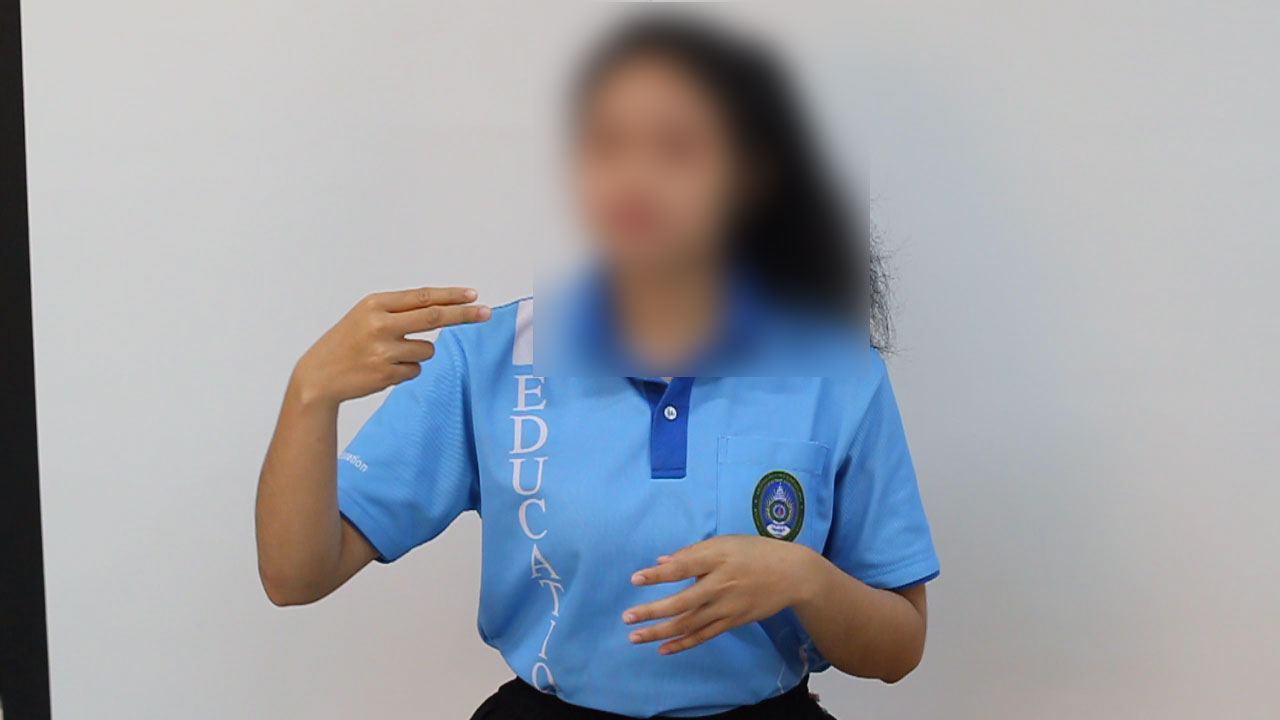hor: (261, 278, 508, 412)
